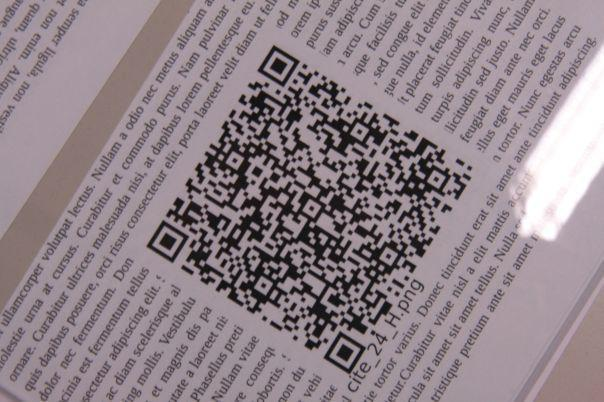qr_code: (146, 44, 475, 375)
